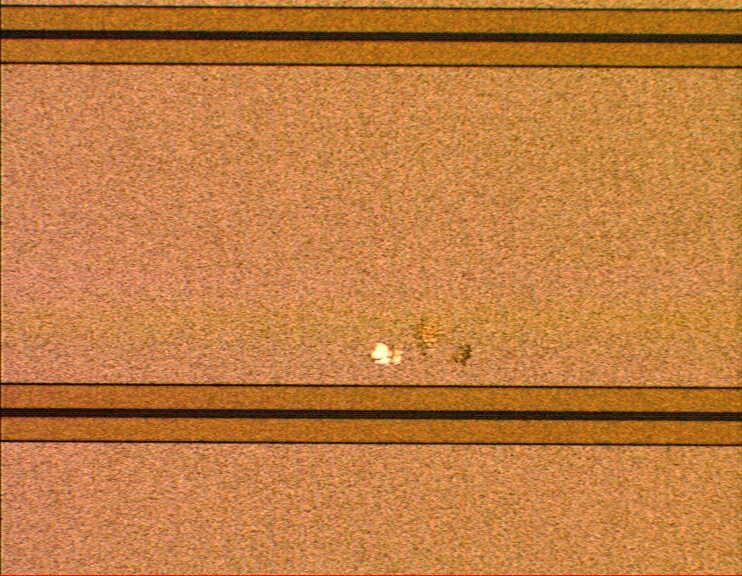SCRATCH: (364, 312, 480, 374)
